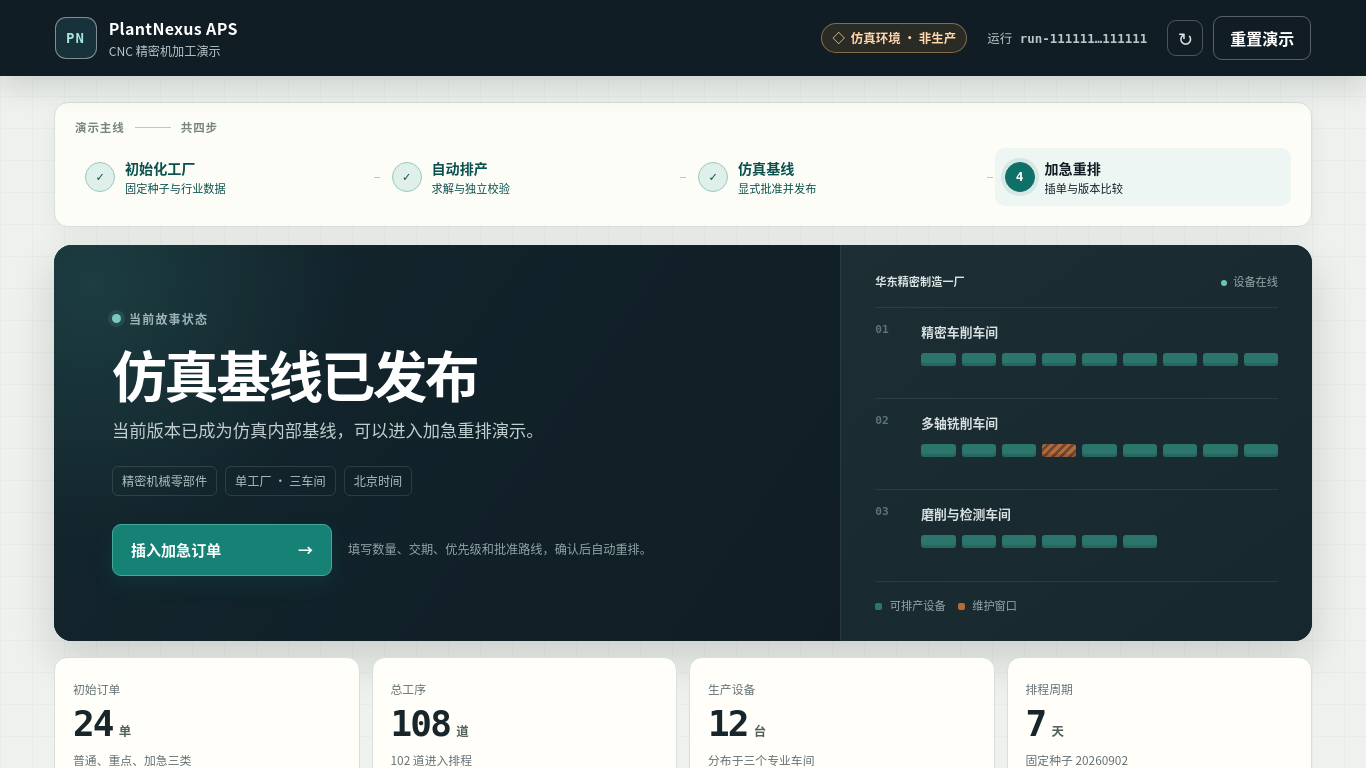
Test: 中文 Demo 故事首页 › 重排未找到候选时保留已发布基线并给出中文安全恢复提示
Click the button "插入加急订单 →".
click(222, 550)  # box 112,524 -> 332,576
(page scrolled)
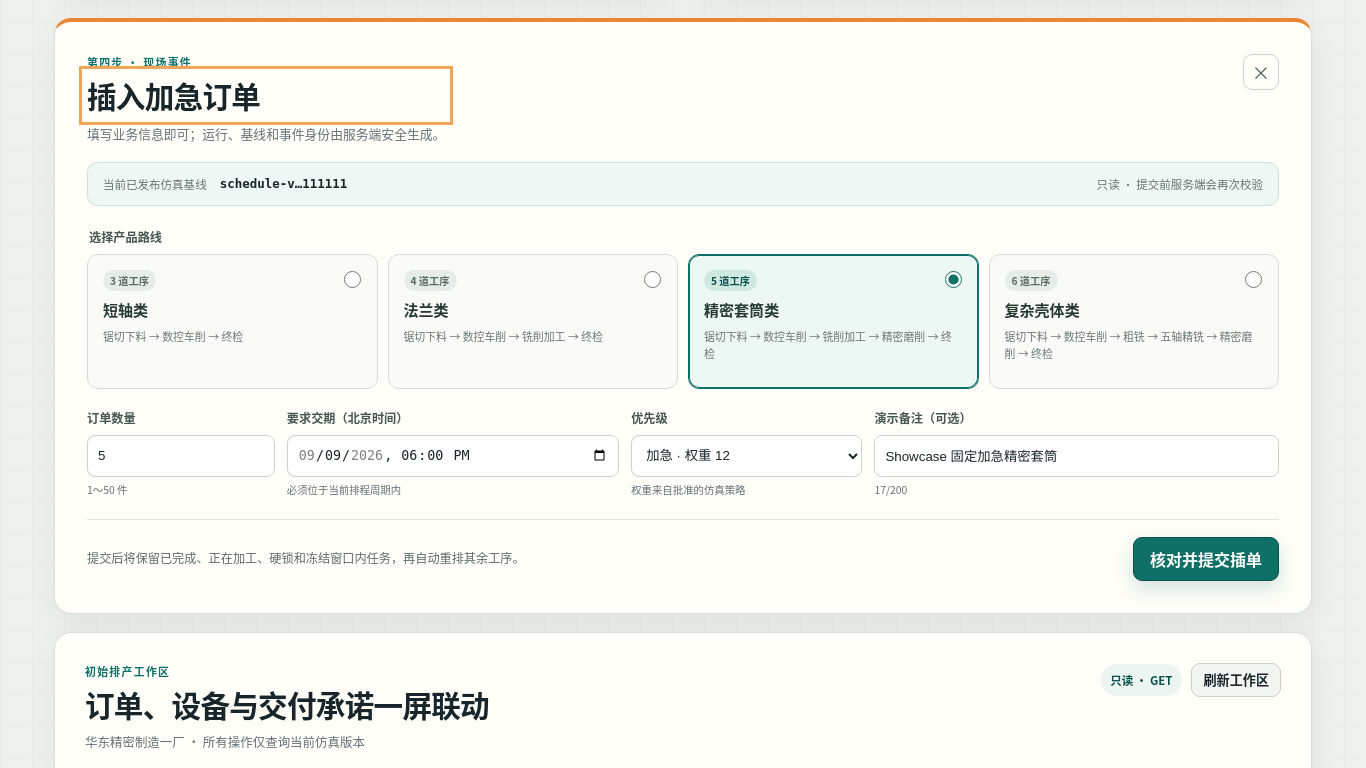
Click the button "核对并提交插单".
click(1206, 559)  # box 1133,537 -> 1279,581
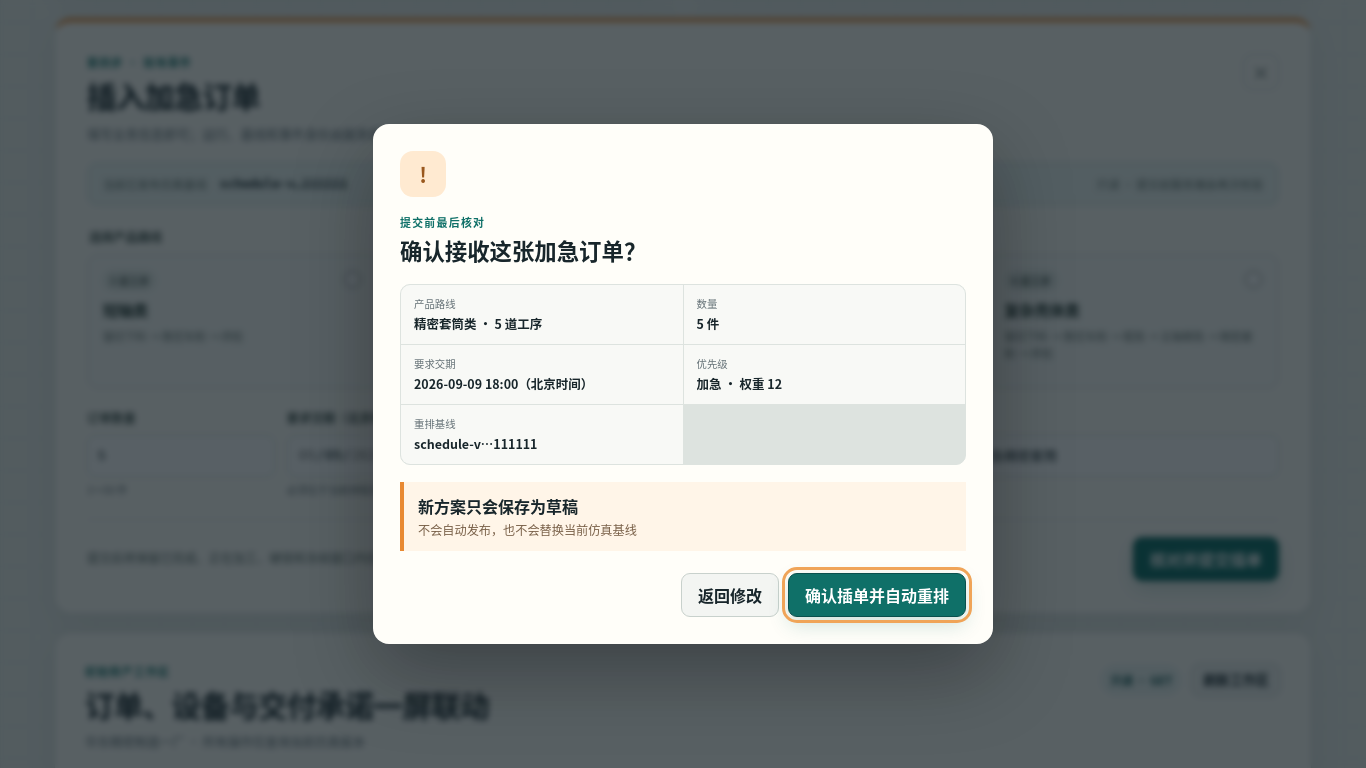
Click the button "确认插单并自动重排".
click(877, 595)  # box 788,573 -> 966,617
(page scrolled)
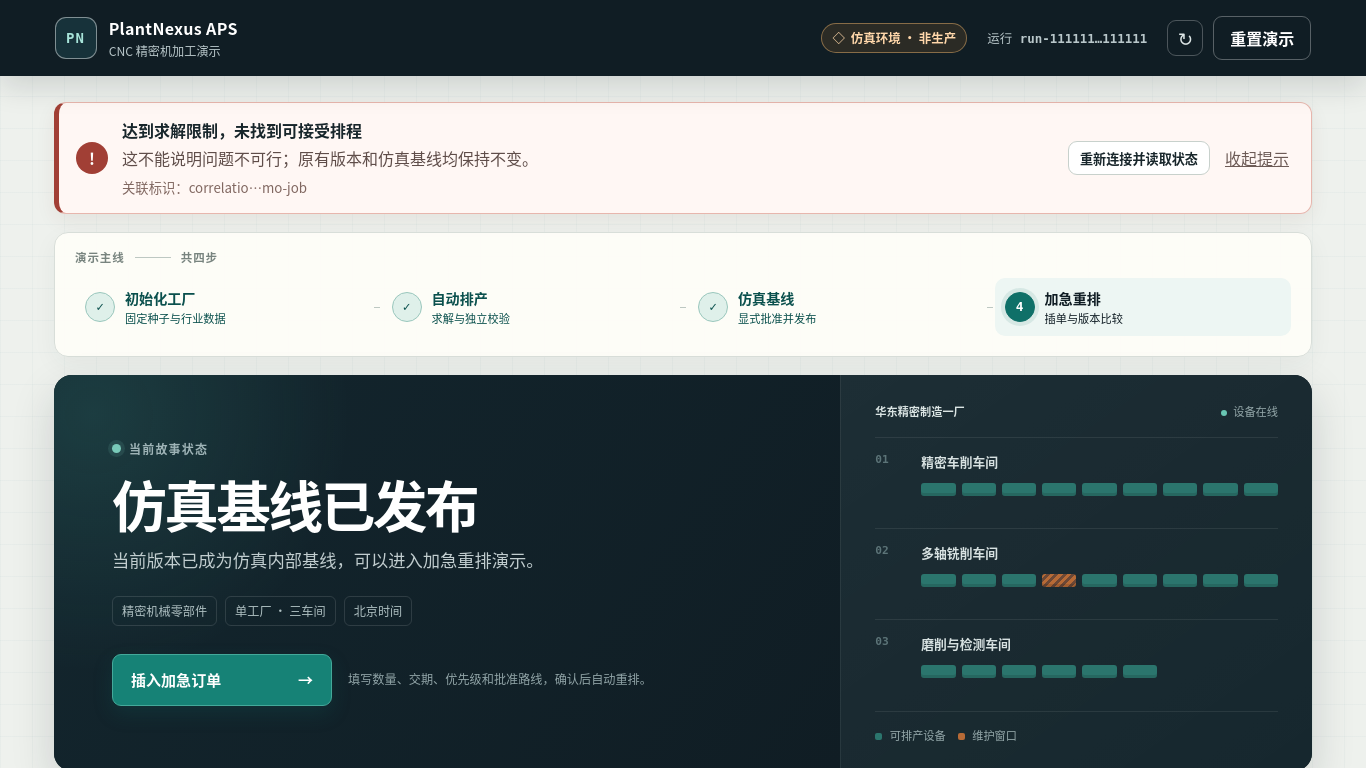
expect the heading "仿真基线已发布" is shown: met, box 112,464 -> 477,543
expect the text "达到求解限制，未找到可接受排程" is shown: met, box 122,118 -> 362,142
expect the text "这不能说明问题不可行；原有版本和仿真基线均保持不变。" is shown: met, box 122,146 -> 538,170
